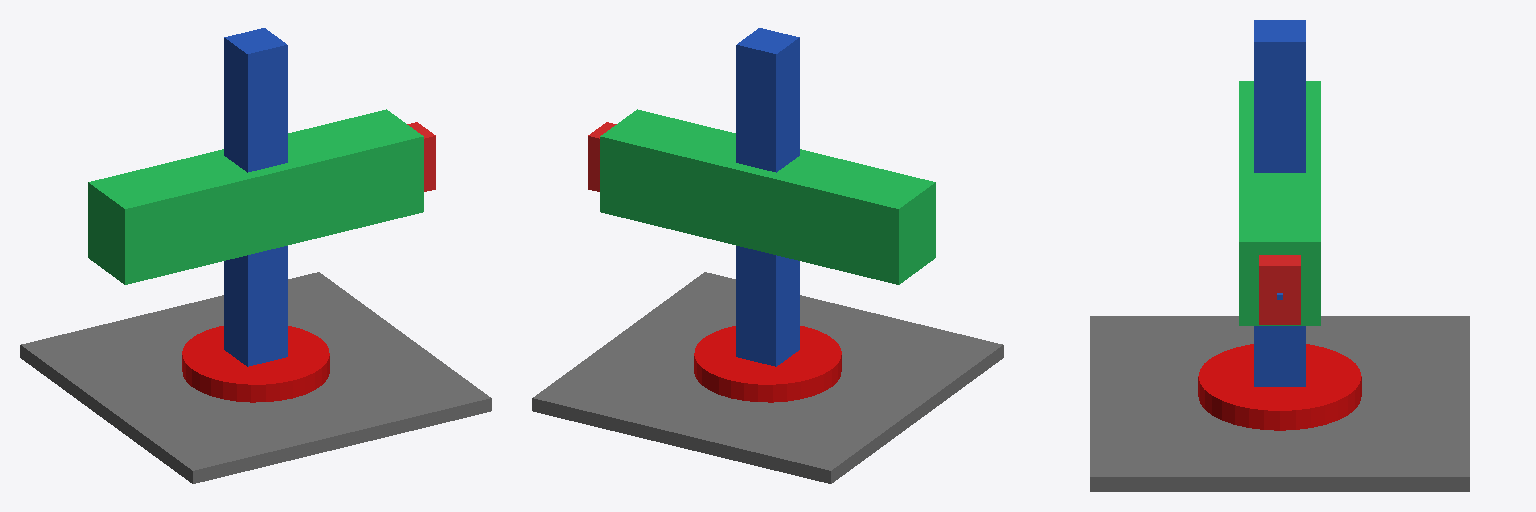
robot.urdf — cylindrical_robot:
<?xml version="1.0"?>
<robot name="cylindrical_robot">

  <!-- ==================== -->
  <!--    LINK BASE FIJA    -->
  <!-- ==================== -->
  <link name="base_link">
    <visual>
      <origin xyz="0 0 0" rpy="0 0 0"/>
      <geometry>
        <box size="0.7 0.7 0.03"/> <!-- base cuadrada -->
      </geometry>
      <material name="gray">
        <color rgba="0.5 0.5 0.5 1.0"/>
      </material>
    </visual>
  </link>

  <!-- ====================================== -->
  <!-- LINK: CILINDRO ENCIMA DE LA BASE (ROTA) -->
  <!-- ====================================== -->
  <link name="base_cylinder_link">
    <visual>
      <origin xyz="0 0 0.0" rpy="0 0 0"/>
      <geometry>
        <cylinder radius="0.15" length="0.05"/> 
      </geometry>
      <material name="red">
        <color rgba="0.9 0.1 0.1 1.0"/>
      </material>
    </visual>
  </link>

  <!-- ====================================== -->
  <!--  JOINT 1: REVOLUTE Z (CILINDRO ROTA)  -->
  <!-- ====================================== -->
  <joint name="revolute_joint" type="revolute">
    <parent link="base_link"/>
    <child link="base_cylinder_link"/>
    <origin xyz="0 0 0.03" rpy="0 0 0"/>
    <axis xyz="0 0 1"/>
    <limit lower="-3.14" upper="3.14" effort="5" velocity="2"/>
  </joint>

  <!-- ====================== -->
  <!--    LINK: COLUMNA       -->
  <!-- ====================== -->
  <link name="column_link">
    <visual>
      <origin xyz="0 0 0.35" rpy="0 0 0"/>
      <geometry>
        <box size="0.094 0.094 0.70"/> <!-- cubo alargado -->
      </geometry>
      <material name="blue">
        <color rgba="0.2 0.4 0.8 1.0"/>
      </material>
    </visual>
  </link>

  <!-- ====================================== -->
  <!--  JOINT FIJO: CILINDRO -> COLUMNA      -->
  <!-- ====================================== -->
  <joint name="cylinder_to_column_joint" type="fixed">
    <parent link="base_cylinder_link"/>
    <child link="column_link"/>
    <origin xyz="0 0 0.025" rpy="0 0 0"/>
  </joint>

  <!-- ============================================== -->
  <!--  JOINT 2: ELEVACIÓN DE LA COLUMNA (PRISMÁTICO) -->
  <!-- ============================================== -->
  <joint name="prismatic_z_joint" type="prismatic">
    <parent link="column_link"/>
    <child link="arm_support_link"/>
    <origin xyz="0 0 0.35" rpy="0 0 0"/>
    <axis xyz="0 0 1"/>
    <limit lower="-0.2" upper="0.225" effort="10" velocity="0.1"/>
  </joint>

  <!-- =========================== -->
  <!--    LINK: SOPORTE SUPERIOR   -->
  <!-- =========================== -->
  <link name="arm_support_link">
    <visual>
      <origin xyz="0 0 0" rpy="0 0 0"/>
      <geometry>
        <box size="0.7 0.15 0.17"/> <!-- cubo alargado -->
      </geometry>
      <material name="green">
        <color rgba="0.2 0.8 0.4 1.0"/>
      </material>
    </visual>
  </link>

  <!-- ================================================= -->
  <!--  JOINT 3: MOVIMIENTO HORIZONTAL (PRISMÁTICO X)    -->
  <!-- ================================================= -->
  <joint name="prismatic_x_joint" type="prismatic">
    <parent link="arm_support_link"/>
    <child link="arm_link"/>
    <origin xyz="0.1 0 0" rpy="0 0 0"/>
    <axis xyz="1 0 0"/>
    <limit lower="0.0" upper="0.25" effort="10" velocity="0.2"/>
  </joint>

  <!-- ===================== -->
  <!--    LINK: BRAZO        -->
  <!-- ===================== -->
  <link name="arm_link">
    <visual>
      <origin xyz="0.15 0 0" rpy="0 0 0"/>
      <geometry>
        <box size="0.3 0.077 0.12"/> <!-- cubo alargado -->
      </geometry>
      <material name="red">
        <color rgba="0.9 0.2 0.2 1.0"/>
      </material>
    </visual>
  </link>
  
  
  
  <!-- ====================== -->
  <!--    LINK: Efector      -->
  <!-- ====================== -->
  <link name="tool_link">
    <visual>
      <origin xyz="0 0 0" rpy="0 0 0"/>
      <geometry>
        <box size="0.01 0.01 0.01"/> <!-- cubo alargado -->
      </geometry>
      <material name="blue">
        <color rgba="0.2 0.4 0.8 1.0"/>
      </material>
    </visual>
  </link>

  <!-- ====================================== -->
  <!--  JOINT efector     -->
  <!-- ====================================== -->
  <joint name="tool_joint" type="fixed">
    <parent link="arm_link"/>
    <child link="tool_link"/>
    <origin xyz="0.3 0 0" rpy="0 0 0"/>
  </joint>

</robot>

--- What the picture shows (computed from the rendered views, not written in the file) ---
3 views of the same robot in one strip: view 1: azimuth 30°, elevation 25°; view 2: azimuth 150°, elevation 25°; view 3: azimuth 270°, elevation 25° (orthographic).
Robot: cylindrical_robot — 6 links, 5 joints (1 revolute, 2 prismatic, 2 fixed); root link base_link; default pose: every joint at zero.
Visible links, largest first — view 1: base_link, arm_support_link, column_link, base_cylinder_link, arm_link; view 2: base_link, arm_support_link, column_link, base_cylinder_link, arm_link; view 3: base_link, arm_support_link, column_link, base_cylinder_link, arm_link.
Boxes of the visible links, x1,y1,x2,y2 form: base_link: [20, 272, 491, 483]; arm_support_link: [88, 109, 423, 284]; column_link: [224, 28, 287, 366]; base_cylinder_link: [182, 326, 329, 402]; arm_link: [407, 122, 435, 191]; base_link: [532, 272, 1003, 483]; arm_support_link: [600, 109, 935, 284]; column_link: [736, 28, 799, 366]; base_cylinder_link: [694, 326, 841, 402]; arm_link: [588, 122, 616, 191]; base_link: [1090, 316, 1469, 491]; arm_support_link: [1239, 81, 1320, 325]; column_link: [1254, 20, 1305, 386]; base_cylinder_link: [1198, 344, 1361, 430]; arm_link: [1259, 255, 1300, 324].
Size in the robot's own frame: 0.755 by 0.7 by 0.77 metres.
Geometry: primitives only (box / cylinder / sphere), no mesh files.